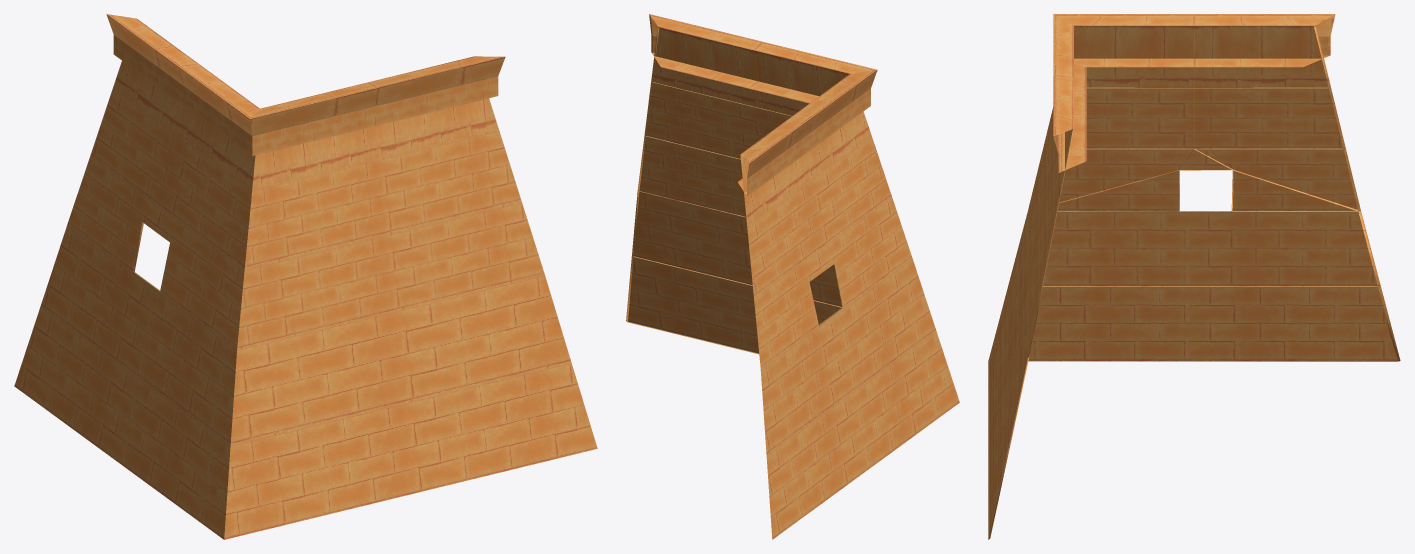
File: TempleFloor04_Cut.glb
3 views of the same model, side by side, from view 1: azimuth 30°, elevation 25°; view 2: azimuth 150°, elevation 25°; view 3: azimuth 270°, elevation 25° (orthographic). The views are drawn at different scales.
Visible parts, largest first — view 1: TempleFloor04_Cut; view 2: TempleFloor04_Cut; view 3: TempleFloor04_Cut.
Part boxes in pixels (x1,y1,x2,y2): TempleFloor04_Cut: [14, 14, 597, 539]; TempleFloor04_Cut: [626, 14, 959, 539]; TempleFloor04_Cut: [988, 14, 1400, 539].
Bounding box in the file's own units: 37.11 × 36.28 × 36.12.
2 materials, 2 textured.
